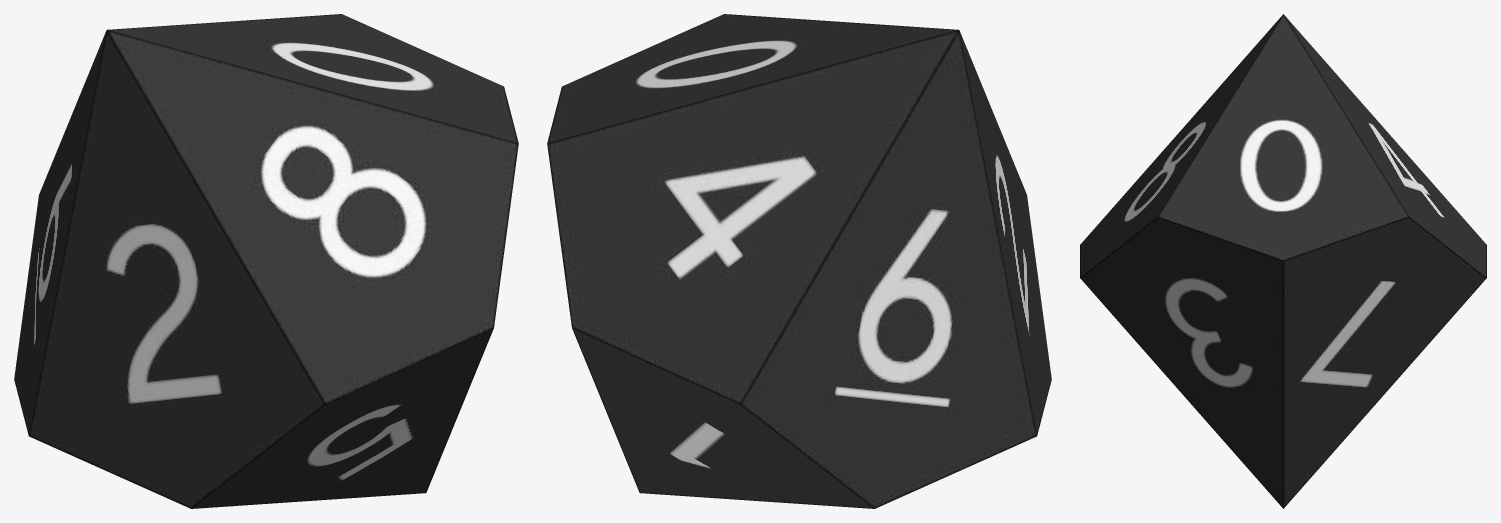
File: facehunter_d10_22mm.glb
The picture shows the model from 3 angles, left to right: view 1: azimuth 30°, elevation 25°; view 2: azimuth 150°, elevation 25°; view 3: azimuth 270°, elevation 25°; orthographic projection. The views are drawn at different scales.
Visible parts, largest first — view 1: d10_0to9; view 2: d10_0to9; view 3: d10_0to9.
Boxes of the visible parts, x1=… form: d10_0to9: x1=14, y1=14, x2=518, y2=508; d10_0to9: x1=547, y1=14, x2=1051, y2=508; d10_0to9: x1=1080, y1=14, x2=1486, y2=508.
Bounding box in the file's own units: 0.0202 × 0.022 × 0.0211.
1 material, 1 textured.
